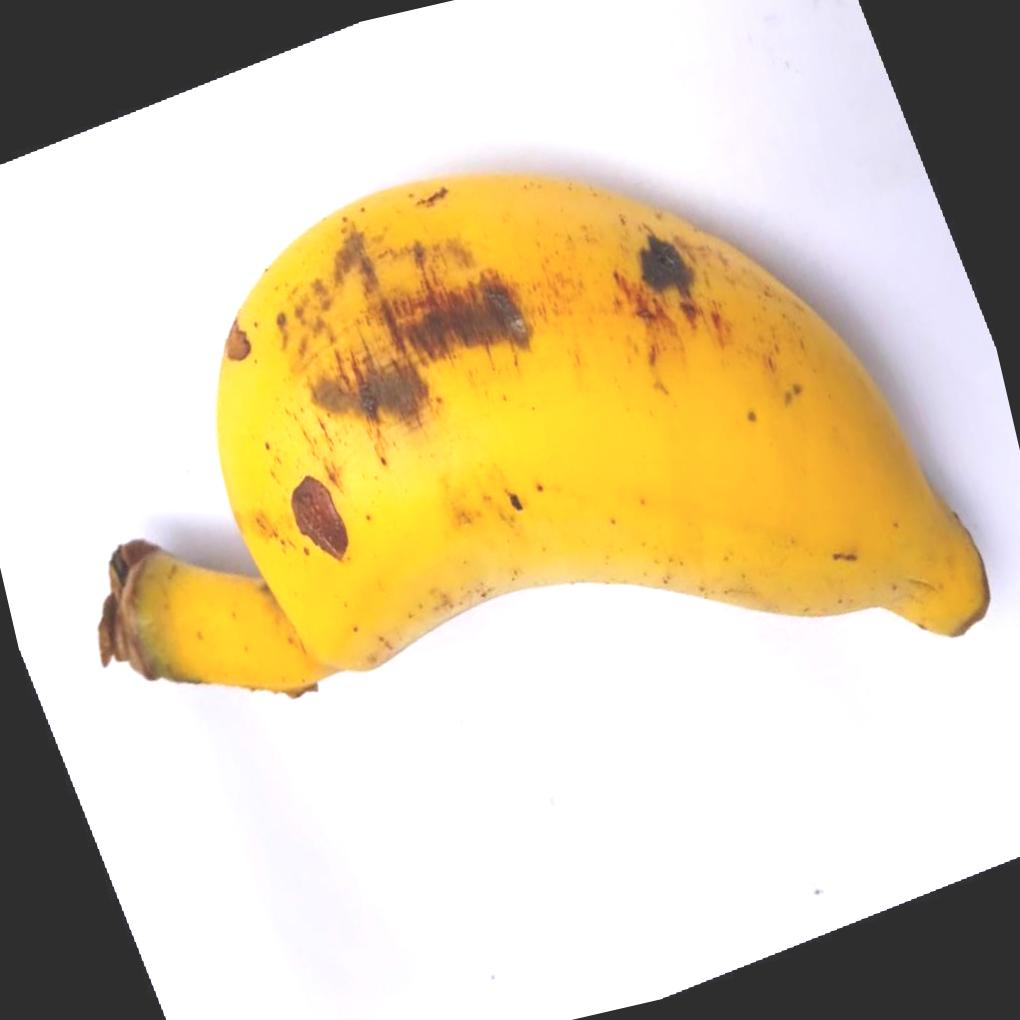Banana Ripe: (36, 64, 1020, 955)
